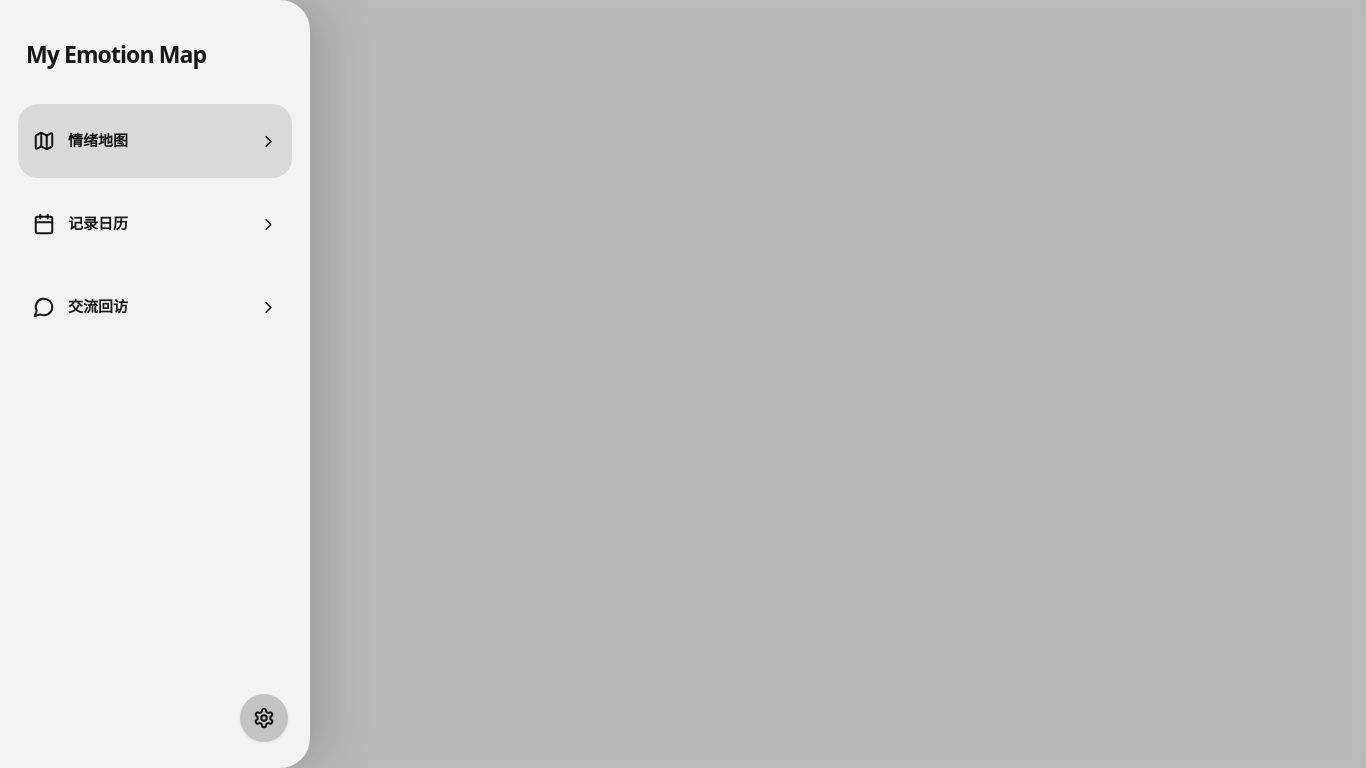
Test: core component flows › expands chat history from the primary row without opening a new chat
This screenshot has width=1366, height=768.
Click the button "交流回访": (98, 306) [18,270,292,344]
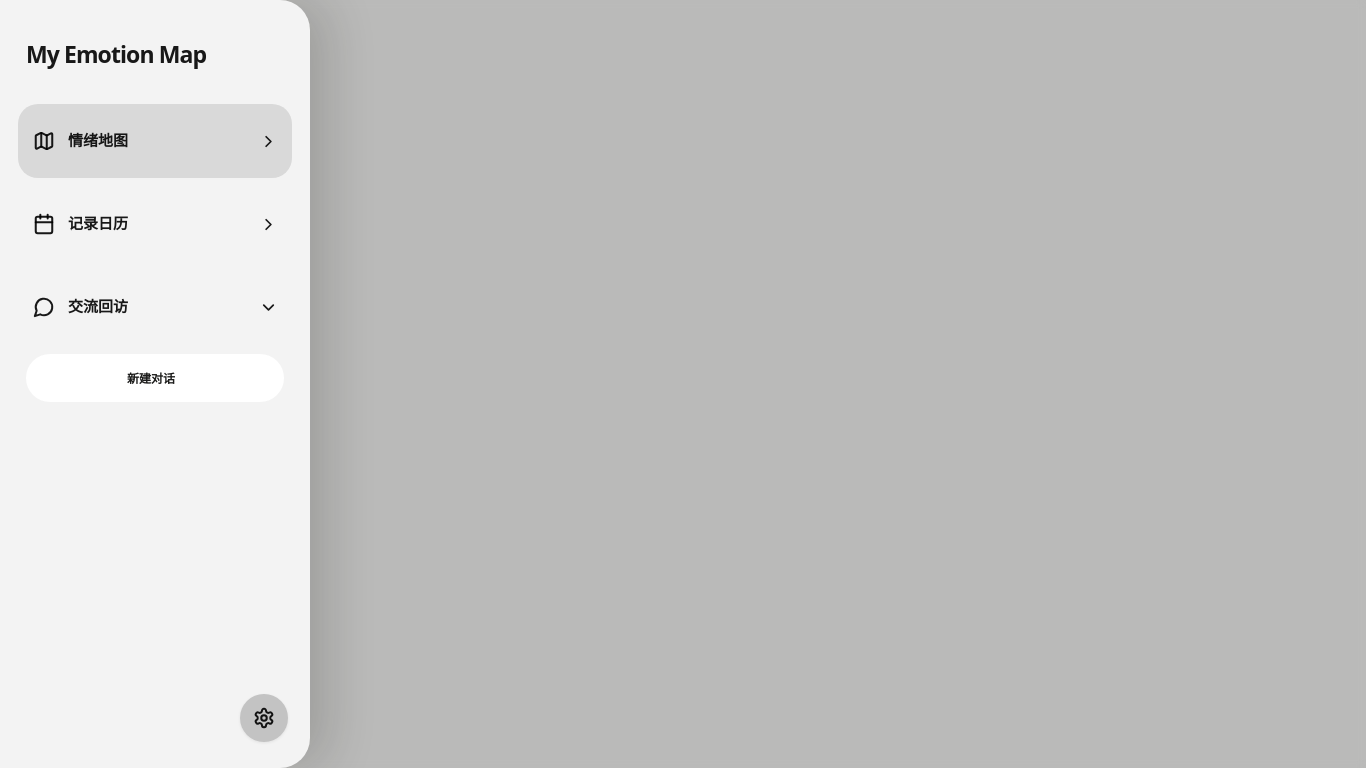
Result: the button "新建对话" is shown at [26,354,284,402]
